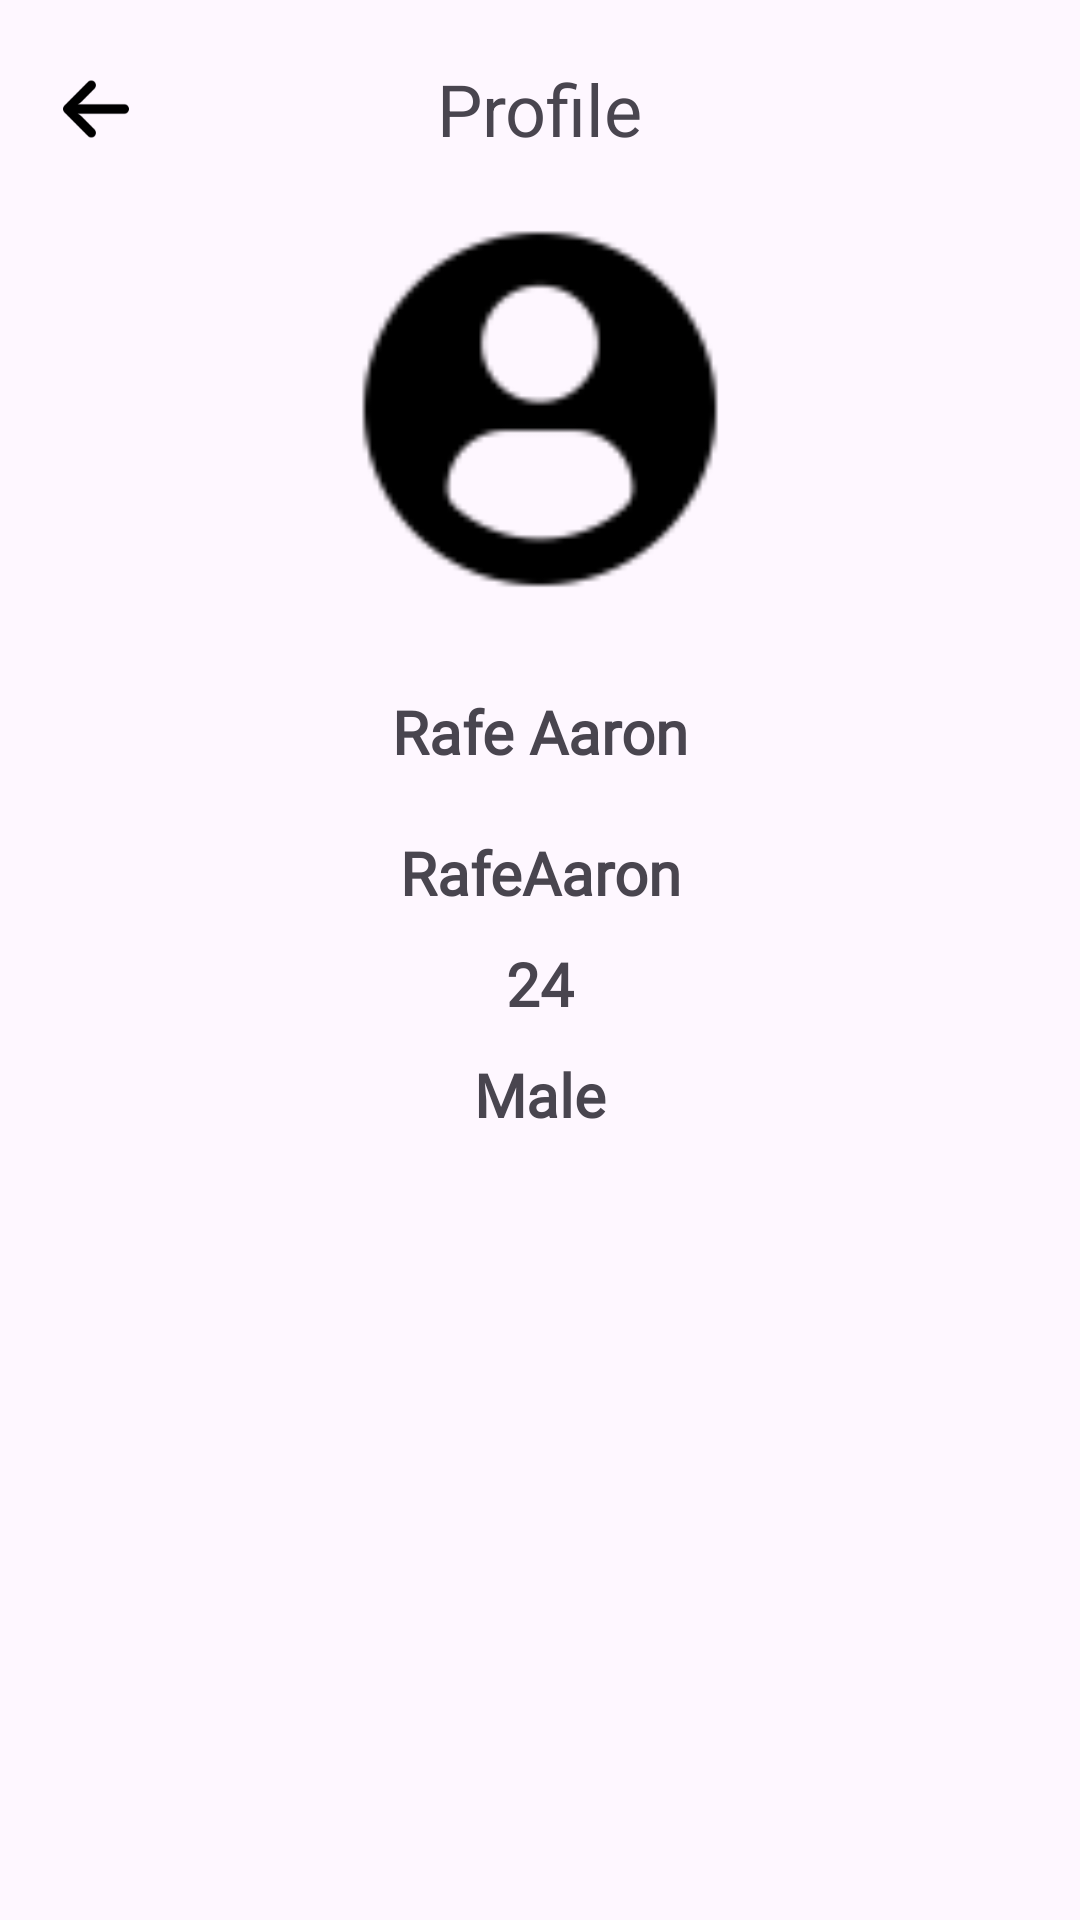

Screen size 1080w x 1920h. Icon name, then its box in pixels as region(x1, y1, x2, y2):
back arrow: region(63, 80, 129, 138)
